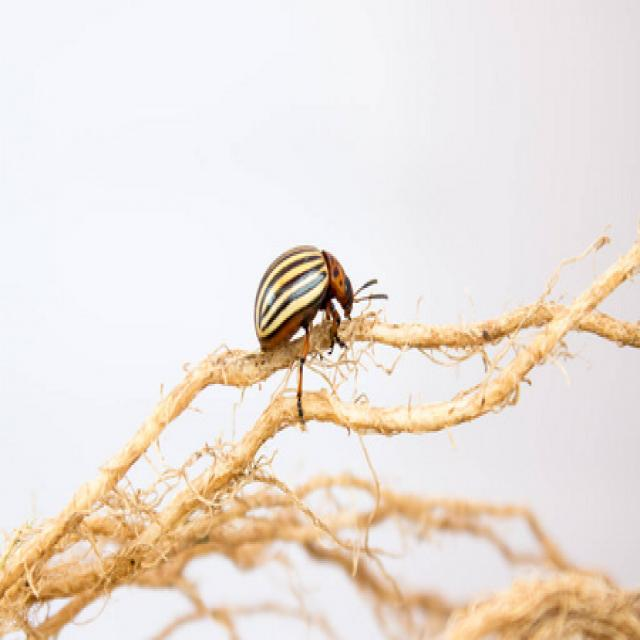ShuCaiHuaBanChong-Grown-: (241, 215, 374, 384)
